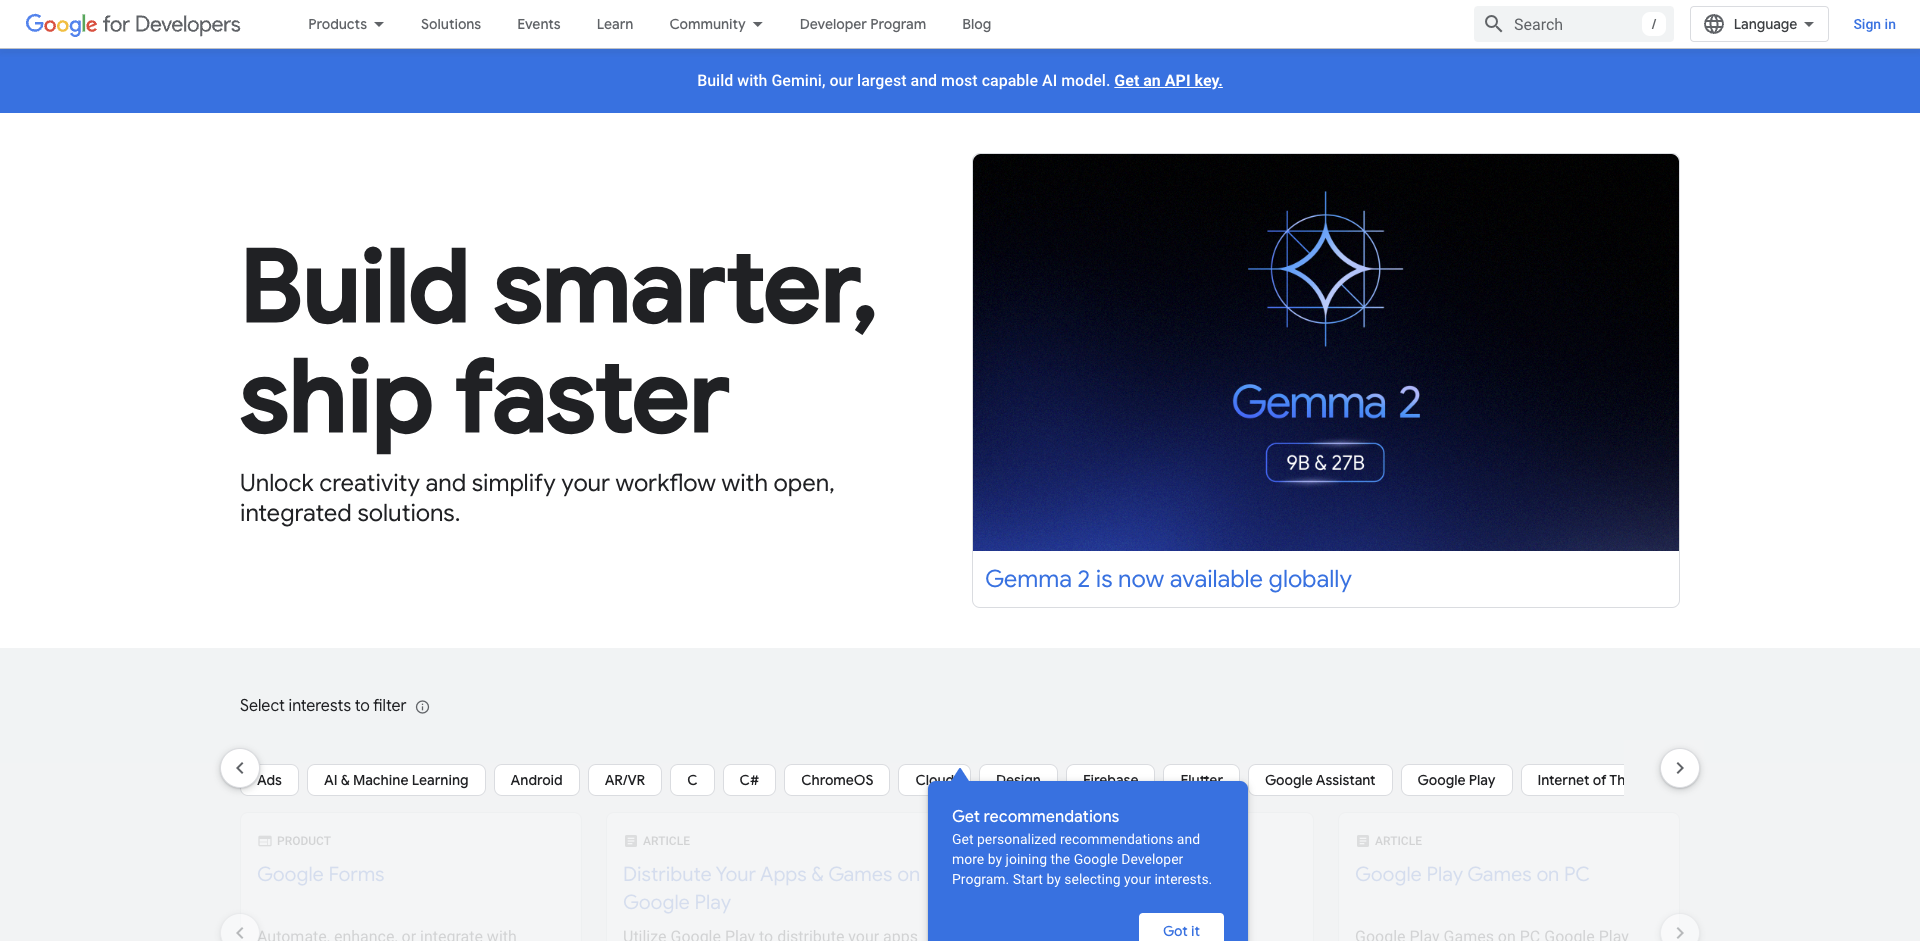button: (1845, 6, 1904, 42), (367, 0, 403, 48), (746, 0, 781, 48)
dropdown: (651, 0, 781, 48), (290, 0, 403, 48)
input: (1473, 6, 1674, 42)
link: (973, 154, 1679, 551), (984, 564, 1352, 594), (781, 0, 944, 48), (24, 9, 242, 40), (403, 0, 500, 48), (651, 0, 746, 48), (500, 0, 579, 48), (290, 0, 367, 48), (579, 0, 651, 48), (944, 0, 1009, 48), (1114, 71, 1223, 89)
